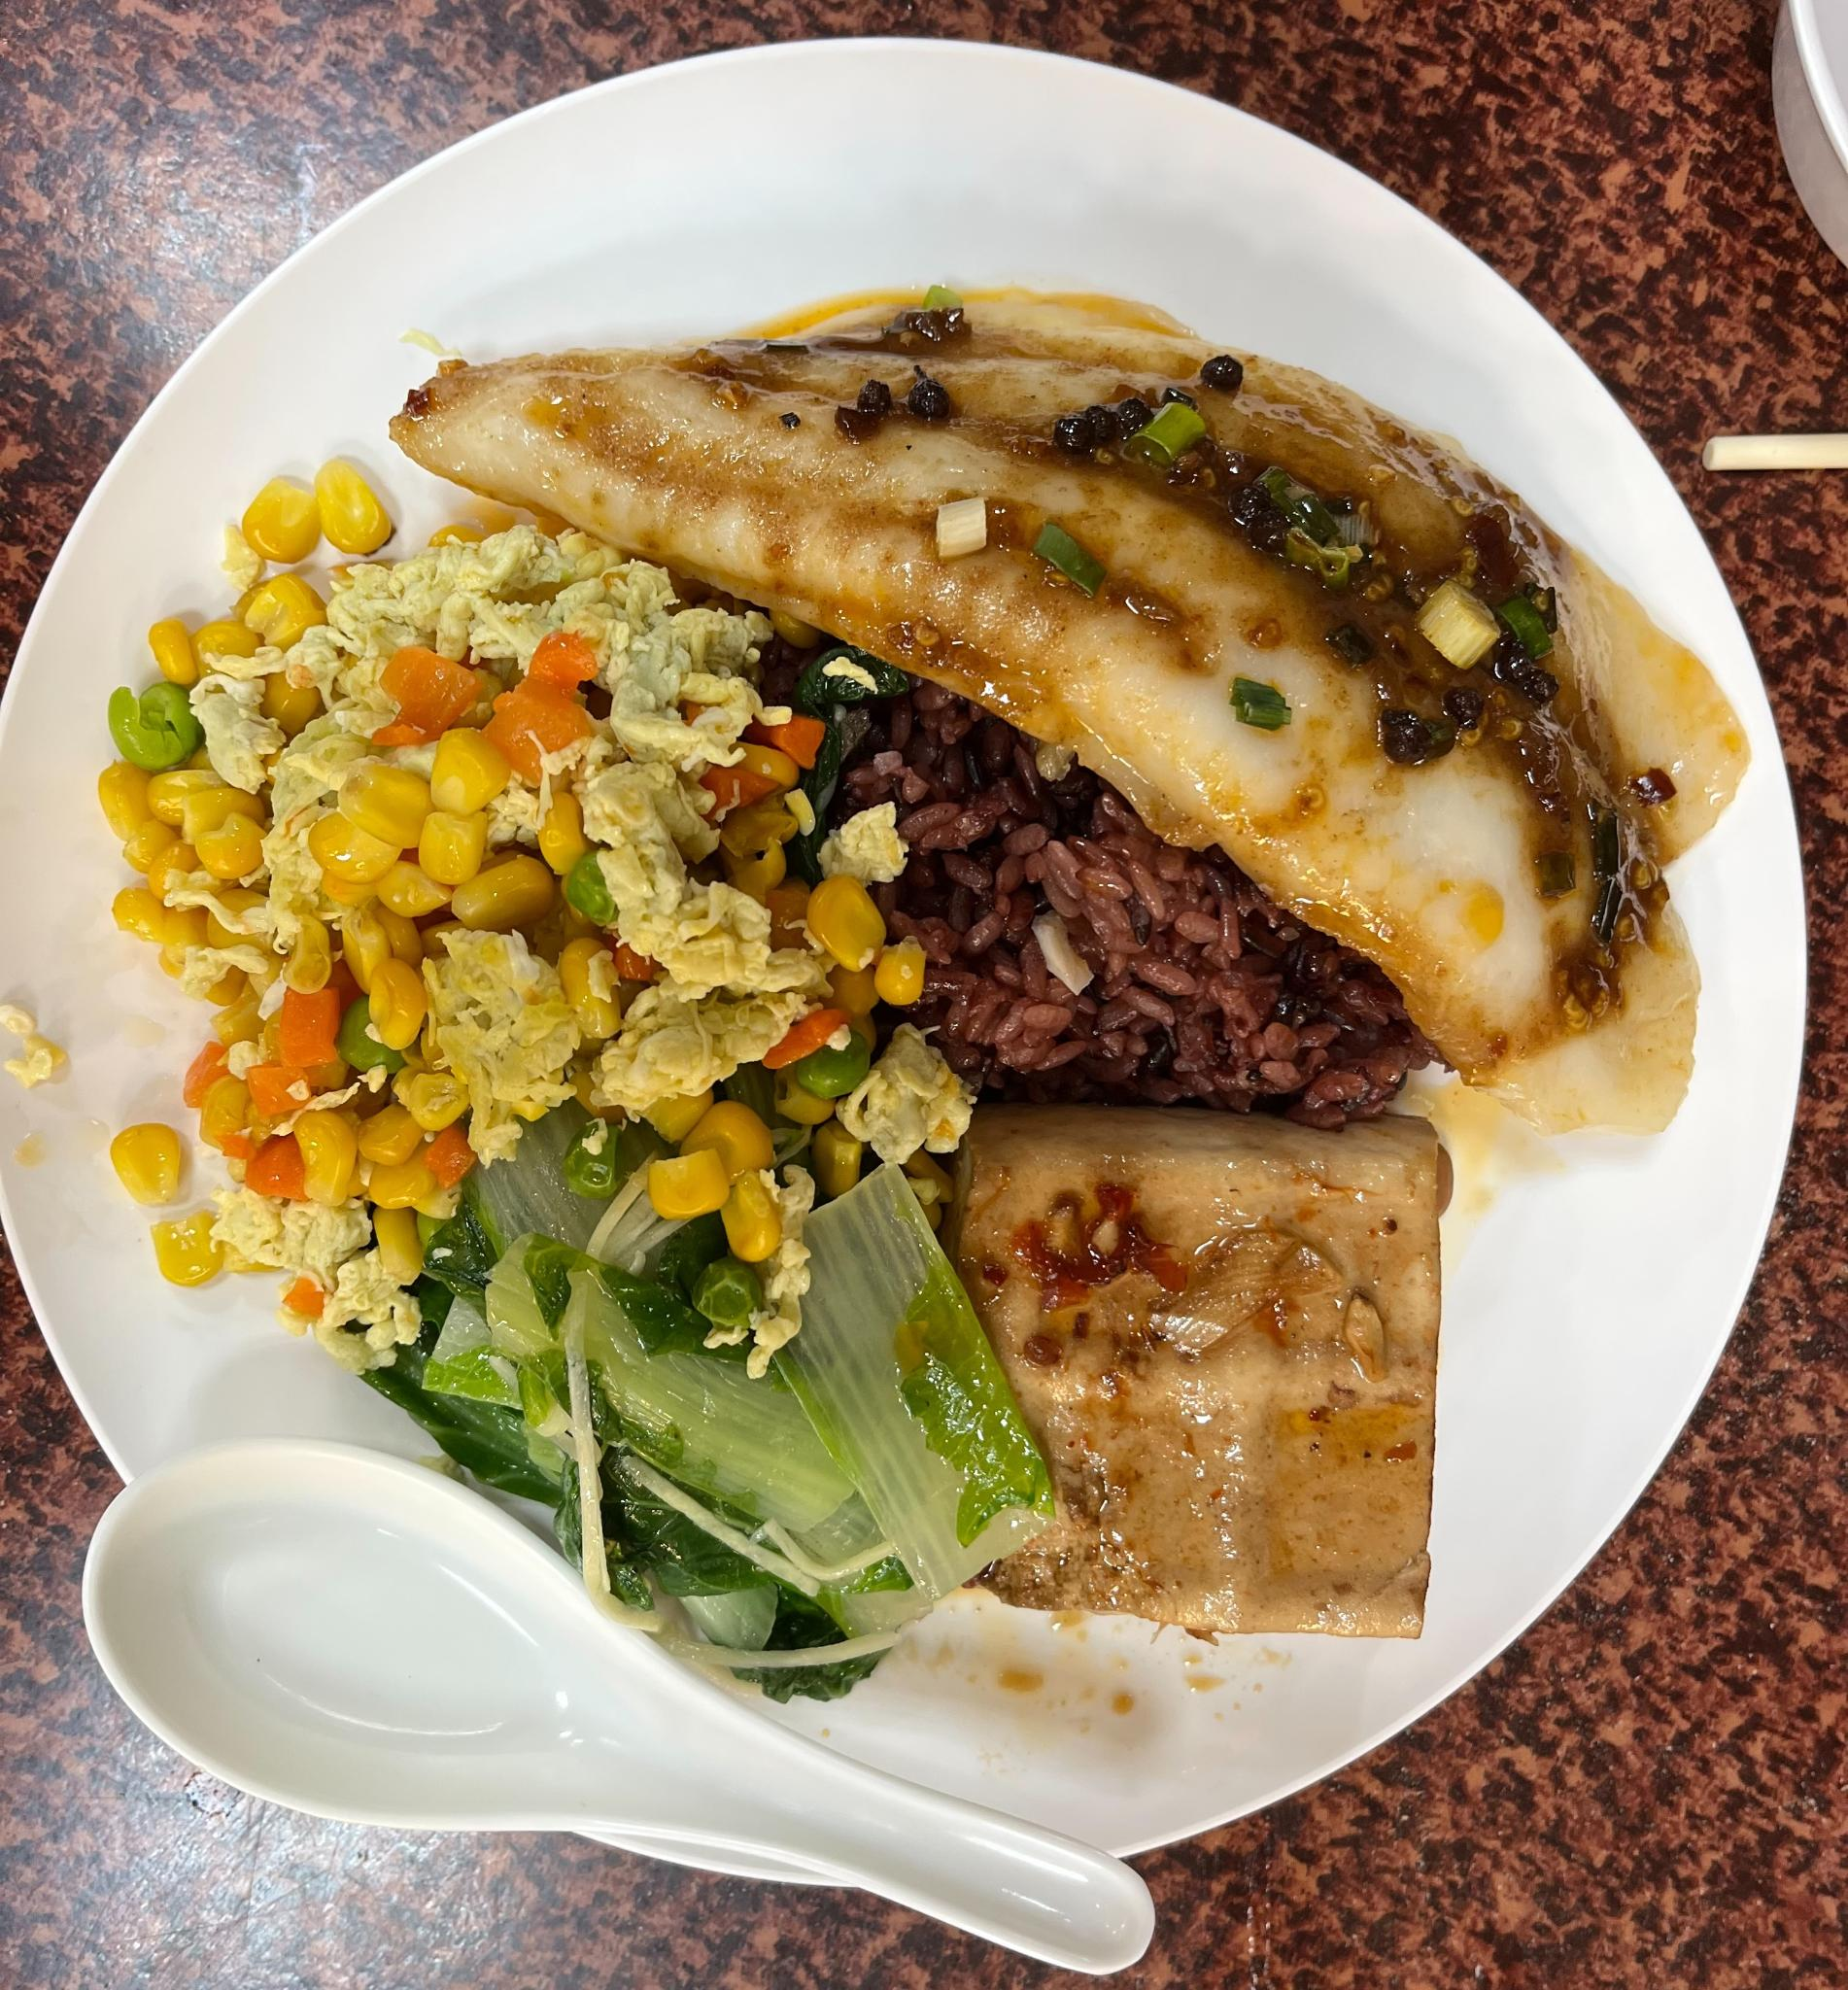big fried chicken leg: (19, 31, 1848, 1882)
braised fish: (742, 589, 1445, 1123)
braised fish fillet: (123, 479, 853, 1276), (387, 1139, 1040, 1653), (929, 1096, 1464, 1676)
braised pork ribs: (422, 240, 1768, 1085)
